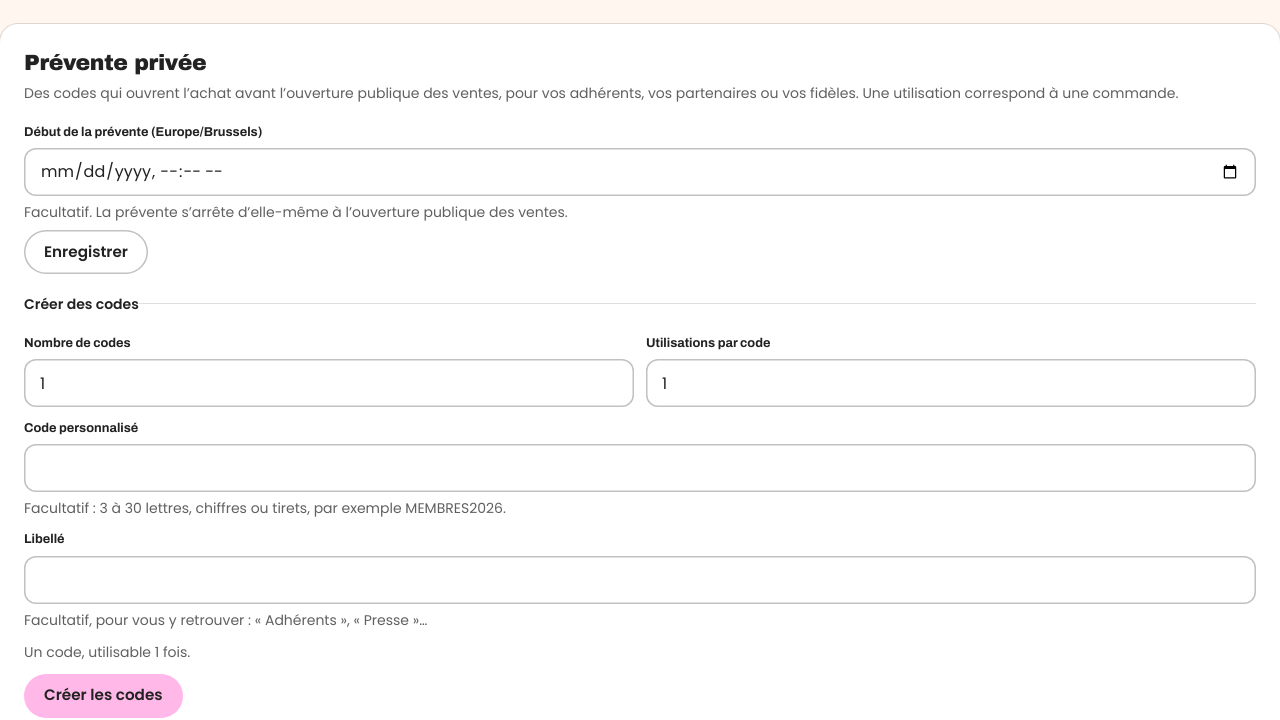
Test: prévente privée (RG-PRV-01, RG-PRV-02) › code personnalisé : seulement pour un code unique, mis en majuscules
Type "vip-2026" into the field labelled "Code personnalisé" at {"x": 640, "y": 468}, box [24, 444, 1256, 492]
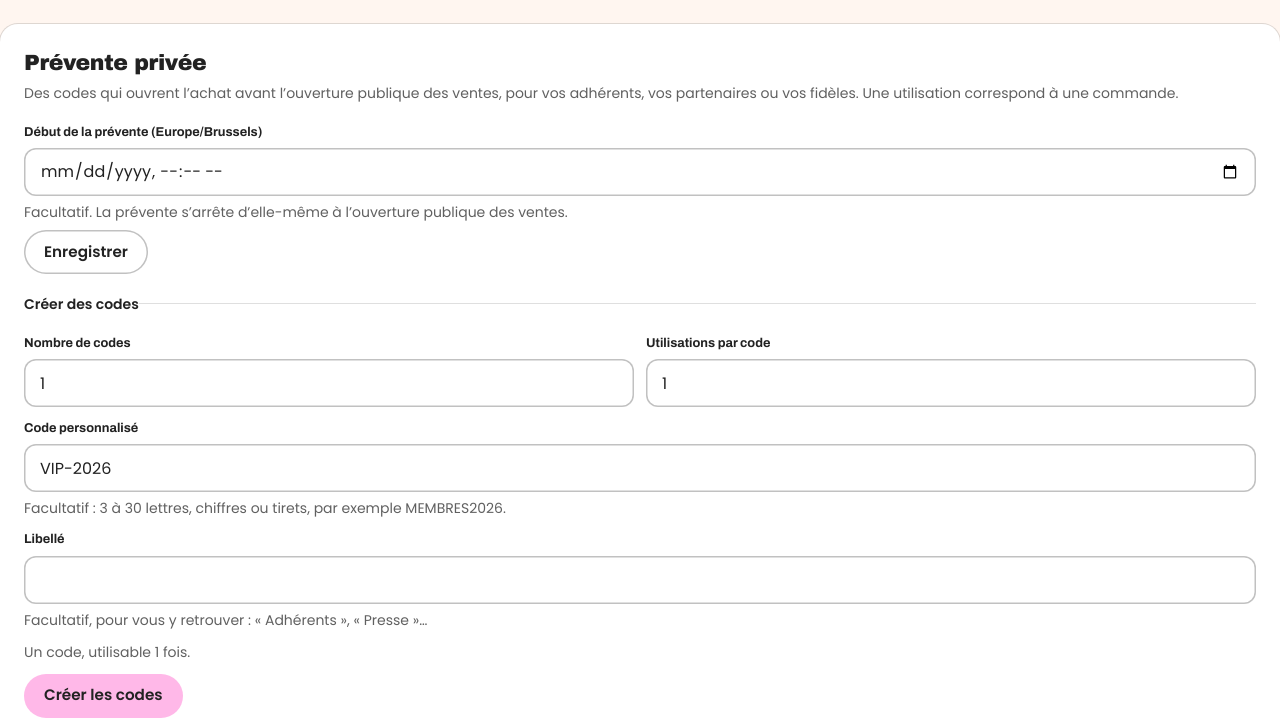
Click the button "Créer les codes" at {"x": 103, "y": 696}, box [24, 674, 183, 718]
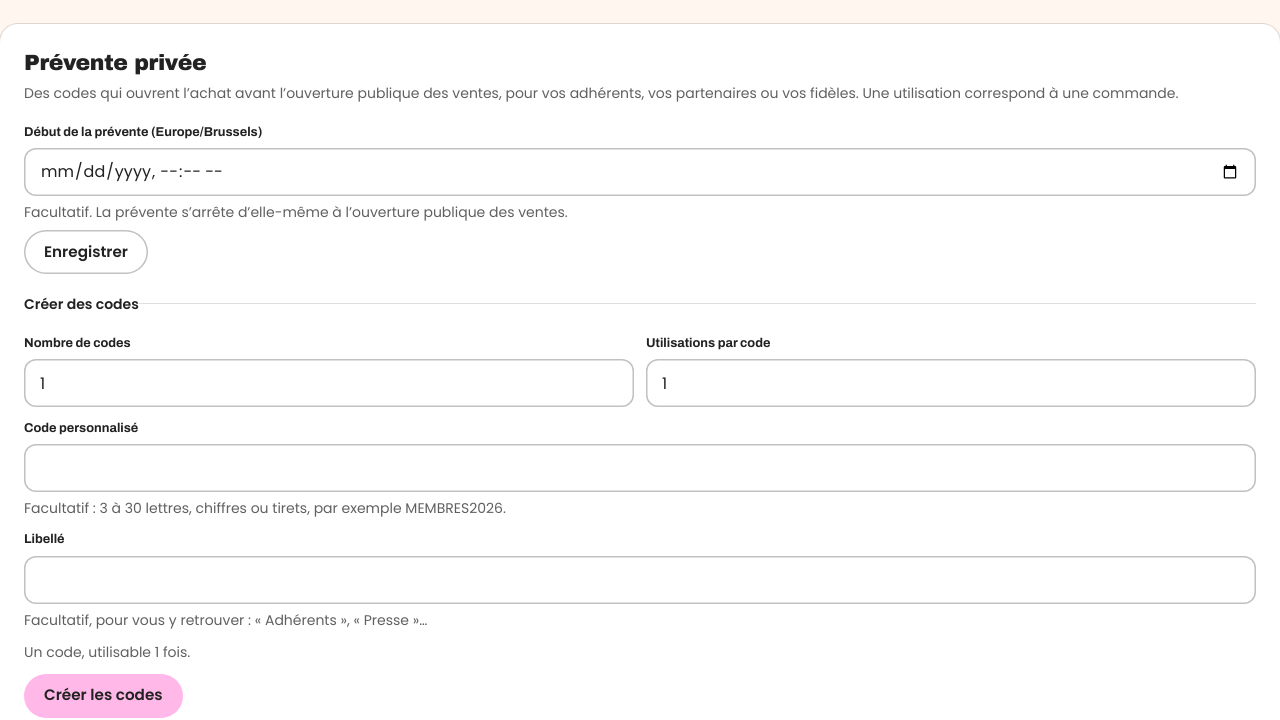
Replace the text in the number field labelled "Nombre de codes" with "5" at {"x": 329, "y": 383}, box [24, 359, 634, 407]
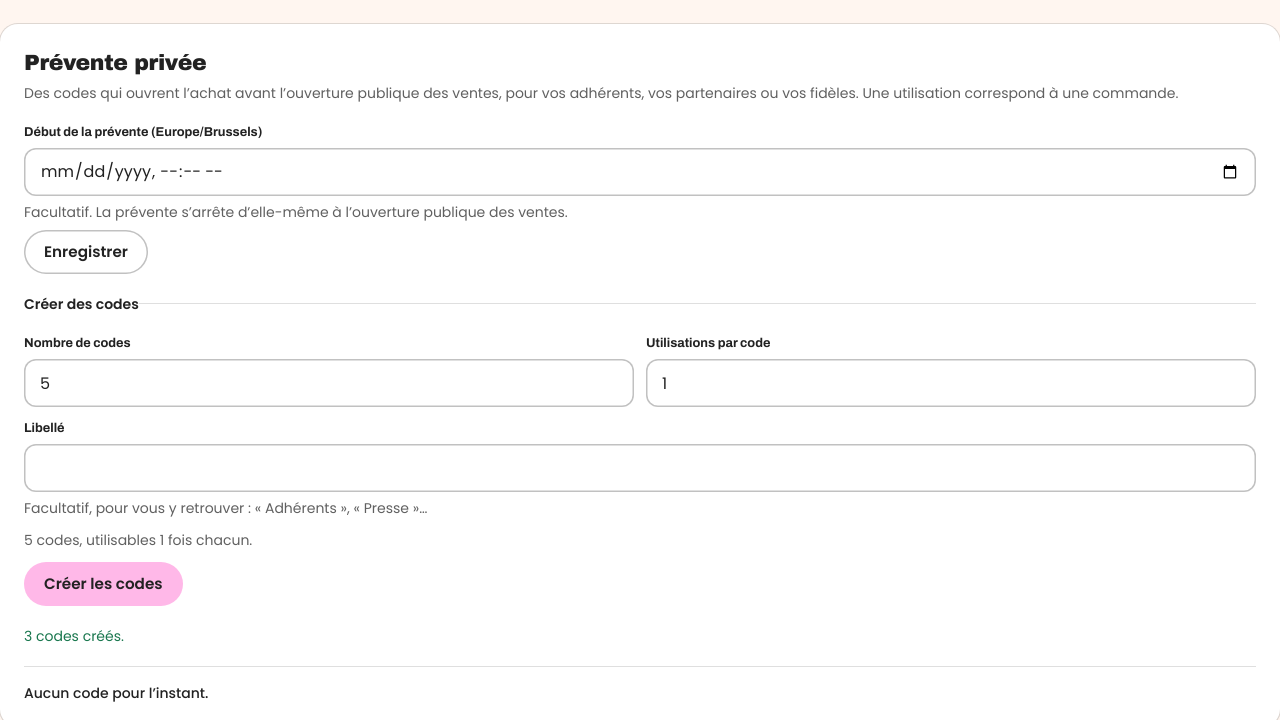
Now the label is gone
